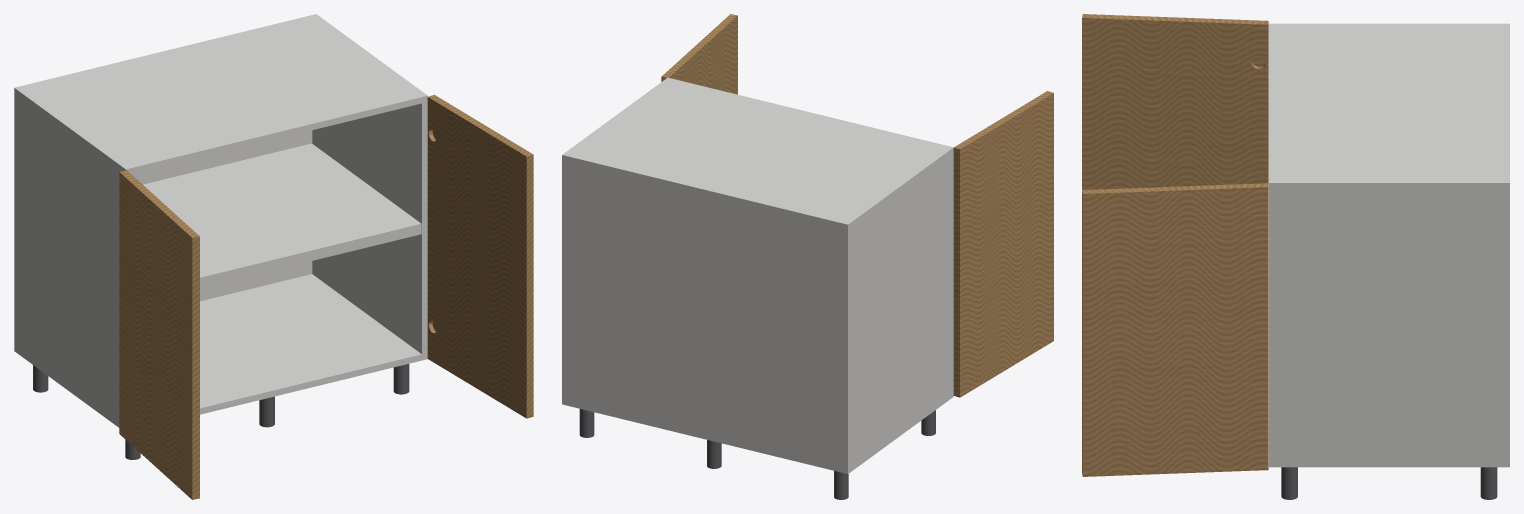
Rendered from w900_onset_pair_open.glb.
3 renders of one model, left to right at view 1: azimuth 30°, elevation 25°; view 2: azimuth 150°, elevation 25°; view 3: azimuth 270°, elevation 25°, orthographic. The views are drawn at different scales.
Parts seen in each view (by area): view 1: white, oak, leg; view 2: white, oak, leg; view 3: white, oak, leg.
Boxes of the visible parts, box(x1,y1,x2,y2) form: white: box(14, 14, 427, 427); oak: box(119, 95, 533, 499); leg: box(33, 364, 409, 459); white: box(562, 77, 953, 473); oak: box(661, 14, 1053, 397); leg: box(579, 409, 935, 499); white: box(1269, 23, 1509, 467); oak: box(1082, 14, 1268, 476); leg: box(1281, 467, 1497, 499).
Size of the model in its own units: 1.02 by 0.85 by 1.02.
3 materials, 1 textured.
